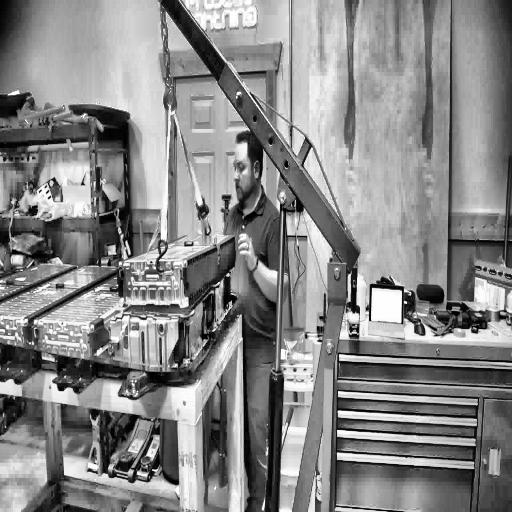battery_module: (38, 290, 131, 326), (125, 232, 231, 263), (44, 265, 116, 286), (0, 264, 73, 284)
